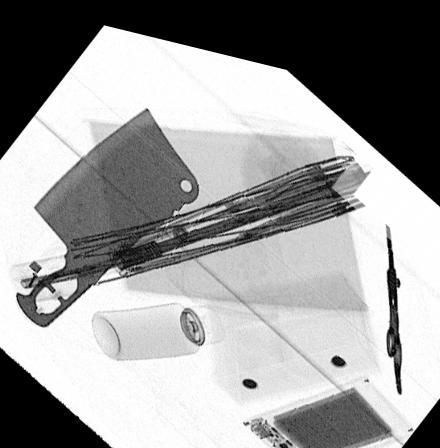Knife: (14, 98, 199, 323)
Powerbank: (239, 359, 411, 448)
Scissors: (383, 202, 404, 375)
Sprayer: (90, 293, 226, 353)
